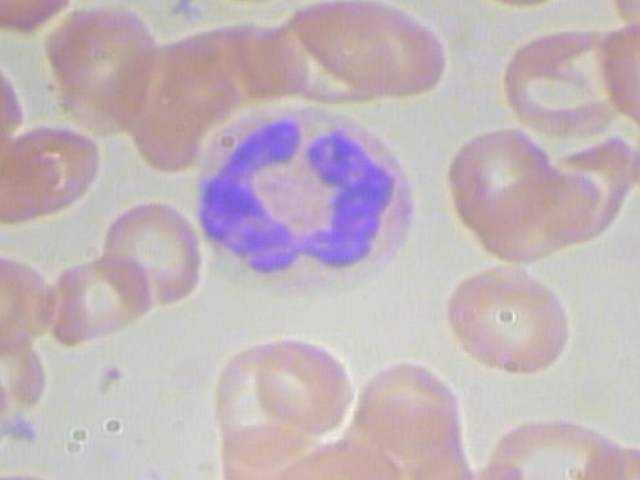Platelets: (0, 411, 53, 452)
RBC: (287, 0, 448, 107), (435, 261, 578, 375), (40, 1, 160, 125), (495, 24, 624, 139), (93, 198, 206, 311), (442, 122, 558, 225), (352, 355, 469, 457), (43, 247, 156, 350), (247, 339, 358, 435), (0, 121, 107, 215), (596, 21, 640, 131), (0, 0, 79, 35)
WBC: (187, 97, 422, 299)
